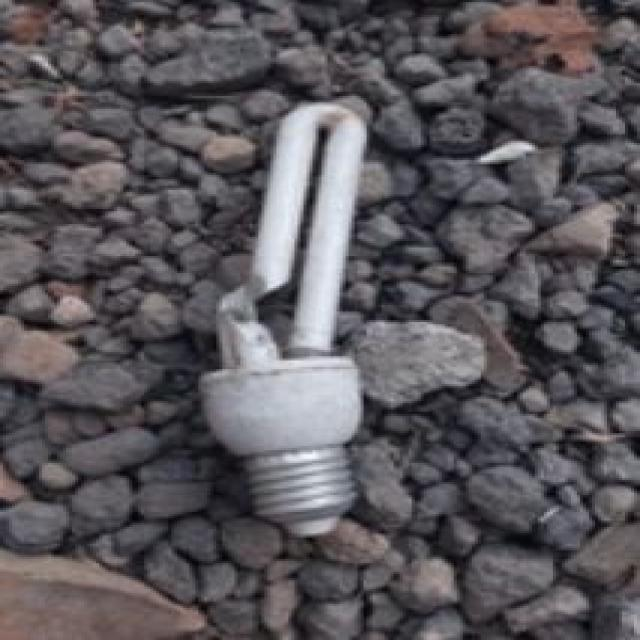electronic: (195, 98, 370, 538)
